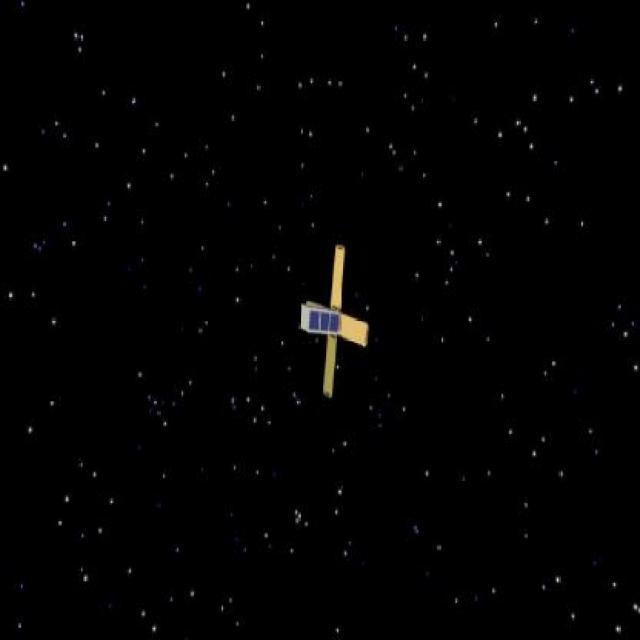satellite: (290, 236, 402, 404)
